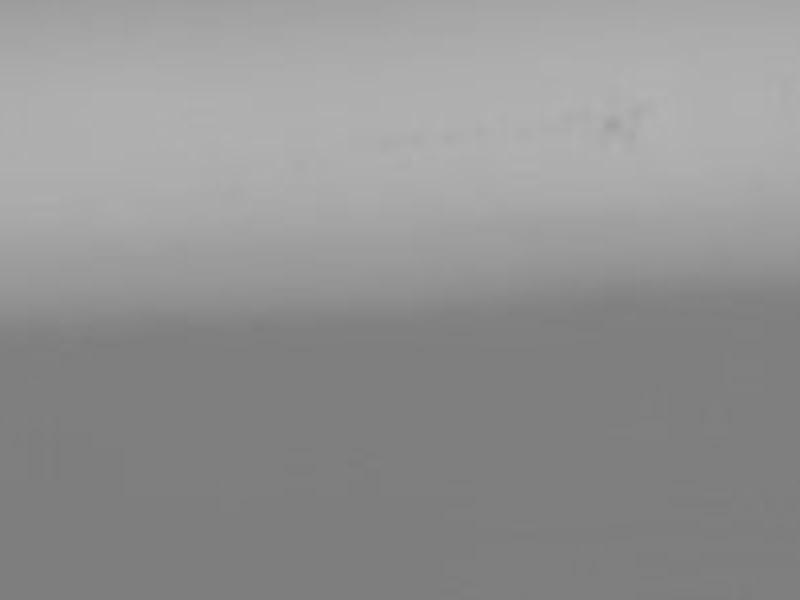defect: (596, 111, 622, 135)
